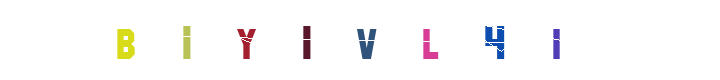1: (133, 0, 213, 80), (321, 0, 401, 80)
4: (401, 0, 481, 80)
B: (85, 0, 165, 80)
I: (474, 0, 554, 80)
L: (351, 0, 431, 80)
V: (326, 0, 406, 80)
Y: (235, 0, 315, 80)
